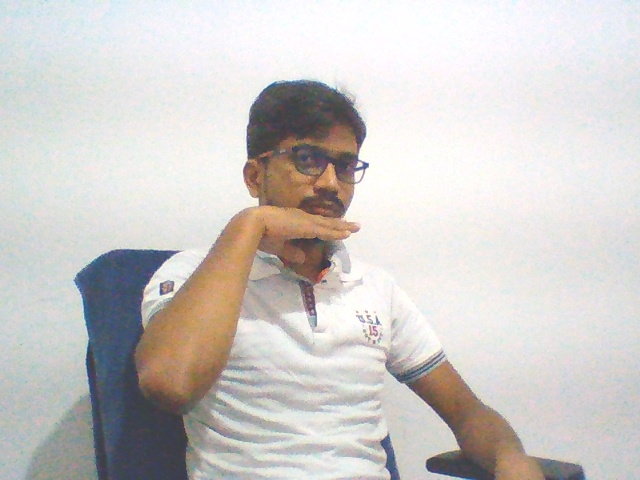elephant: (238, 199, 373, 268)
